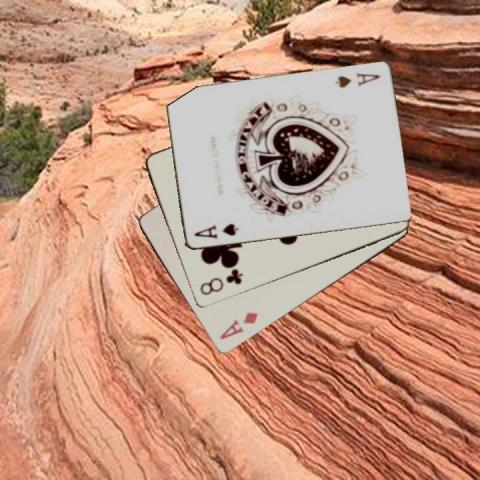8c: (197, 268, 244, 298)
Ad: (216, 310, 259, 342)
As: (191, 221, 240, 240), (332, 70, 381, 89)
